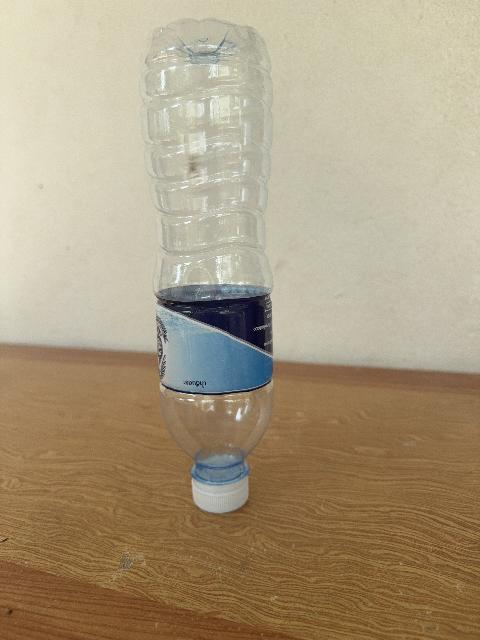bottle: (141, 19, 273, 512)
